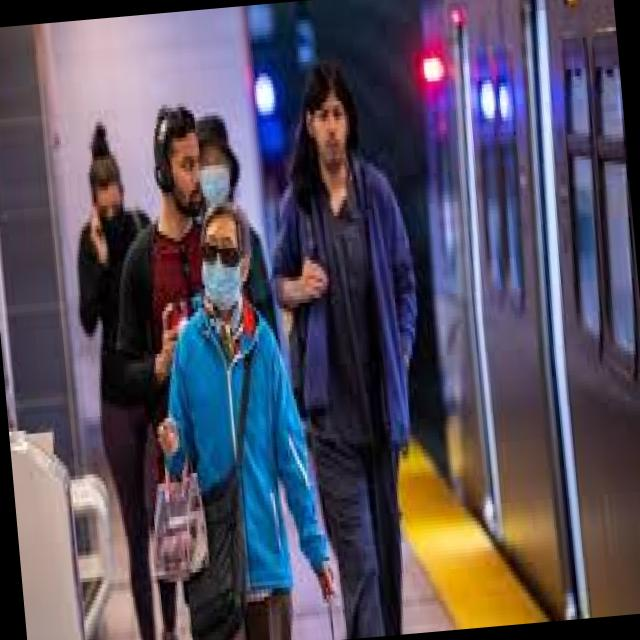Jacket: (150, 294, 331, 604), (270, 140, 438, 472)
